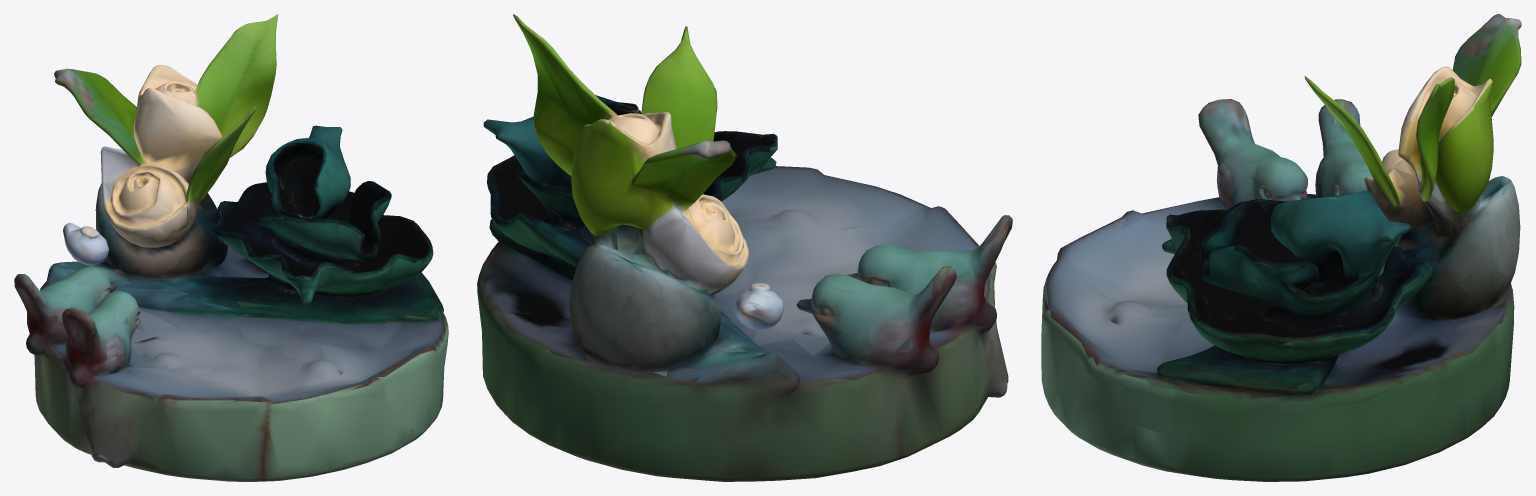
File: 好运莲莲-Small.fbx
3 renders of one model, left to right at view 1: azimuth 30°, elevation 25°; view 2: azimuth 150°, elevation 25°; view 3: azimuth 270°, elevation 25°, orthographic. The views are drawn at different scales.
Visible parts, largest first — view 1: texture_pbr_v128; view 2: texture_pbr_v128; view 3: texture_pbr_v128.
Boxes of the visible parts, x1,y1,x2,y2 form: texture_pbr_v128: [14, 14, 448, 481]; texture_pbr_v128: [477, 14, 1012, 481]; texture_pbr_v128: [1041, 14, 1521, 481].
Size of the model in its own units: 97.26 by 76.75 by 91.89.
1 material, 1 textured.
